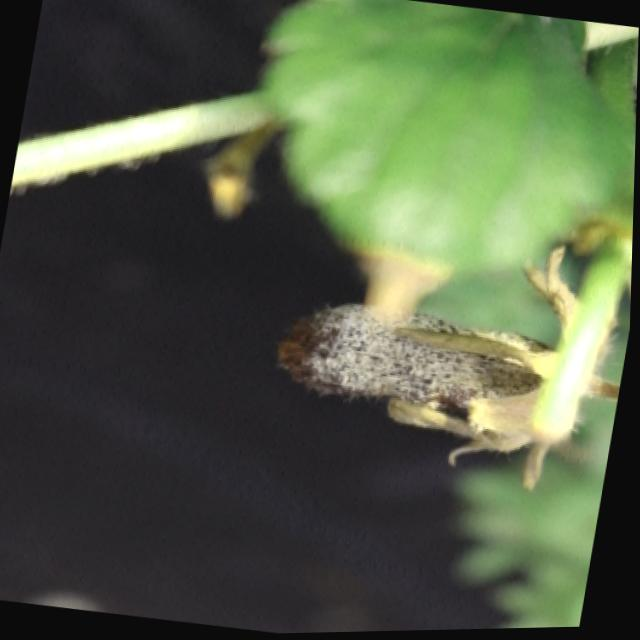Gray Mold: (279, 246, 616, 499)
